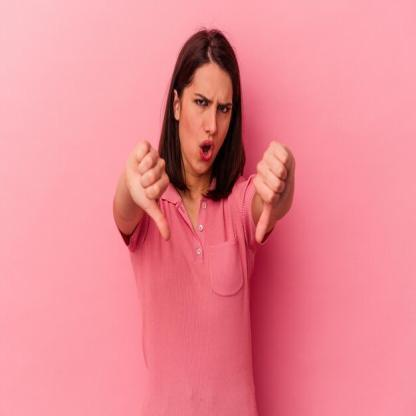thumb_down: (126, 138, 174, 246), (252, 136, 296, 247)
